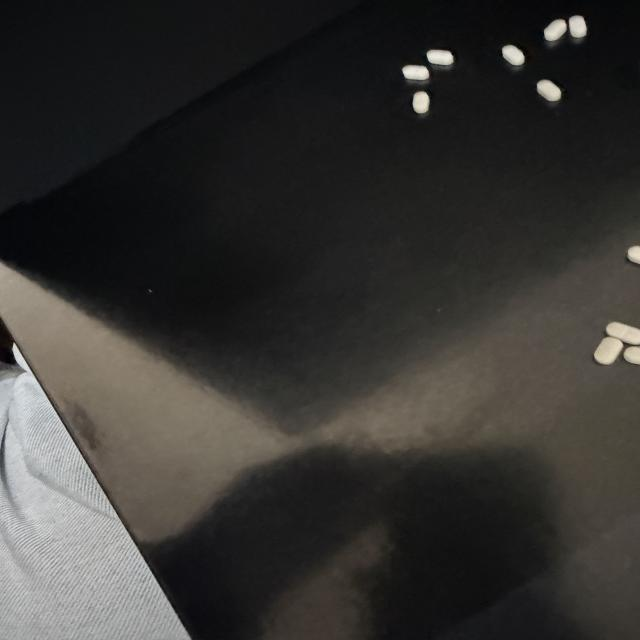pill: (594, 337, 623, 364), (606, 322, 639, 345), (537, 80, 561, 101), (544, 19, 566, 41), (502, 45, 525, 65), (568, 15, 587, 38), (402, 65, 429, 80), (427, 50, 454, 65), (413, 92, 430, 113), (624, 347, 639, 364), (628, 246, 639, 263)
